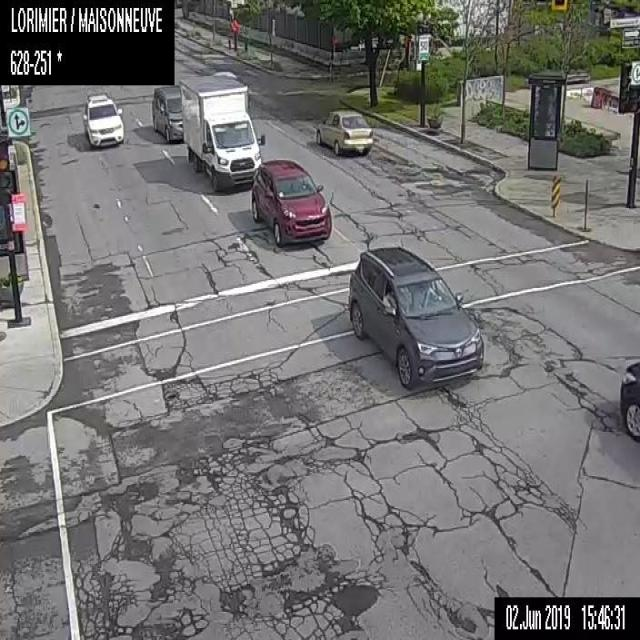vehicle: (347, 245, 483, 391), (178, 74, 264, 190), (251, 158, 331, 244), (314, 108, 372, 155), (82, 90, 124, 146), (151, 84, 182, 142), (620, 359, 639, 441)
